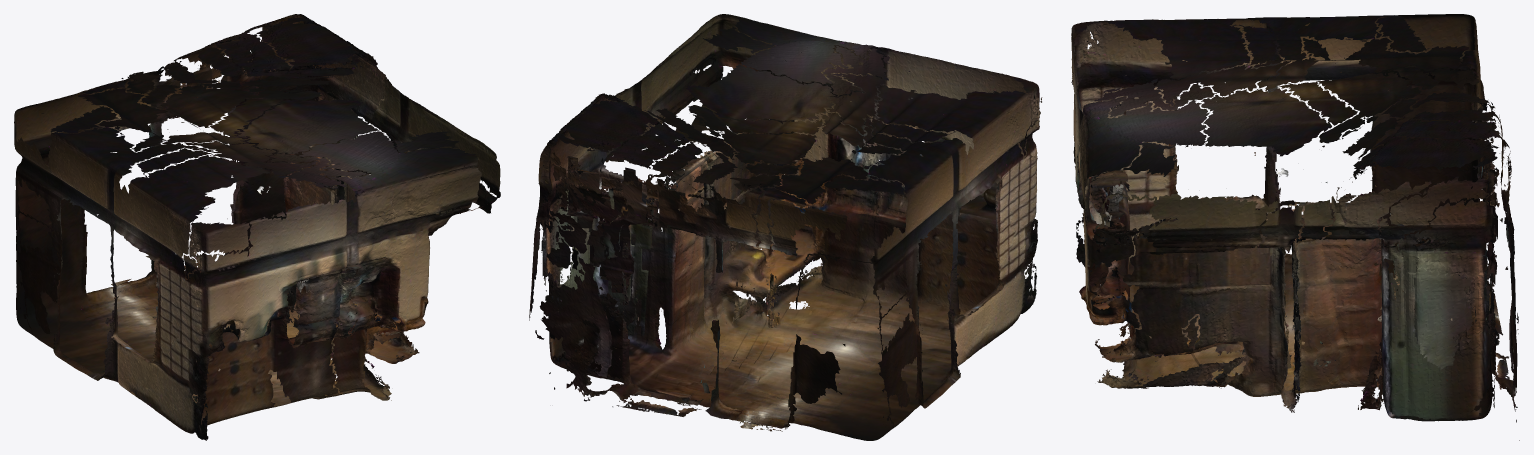
Rendered from buddhist_altar_room_in_an_old_house.fbx.
3 renders of one model, left to right at view 1: azimuth 30°, elevation 25°; view 2: azimuth 150°, elevation 25°; view 3: azimuth 270°, elevation 25°, orthographic. The views are drawn at different scales.
Visible parts, largest first — view 1: node_80006d5b_1c86_4430_97ff_953878b48ca3_mesh0, node_9a88270d_b078_435c_b285_fbeb6389e121_mesh0, node_992ce12a_48a3_4e6f_9386_aea04a5c1efe_mesh0, node_b9ad4a9d_72af_4e77_b0b3_31092304d35d_mesh0, node_e77a334d_af81_495f_95b5_0eed7565d0f1_mesh0, node_1a35d0e5_2291_4e8c_ab43_bf5250dd802f_mesh0, node_f6abef9a_6360_4bf5_aebf_4463a56253aa_mesh0, node_6f0a799f_8744_4117_a124_6cd3ba4630d4_mesh0, node_9f7009be_148e_4433_bb13_969b93e6328c_mesh0, node_0a7f9aeb_c3b8_42ab_929d_f312c8ff27d5_mesh0, node_ce72f187_6851_4801_9dac_0d0f6332ef7e_mesh0, node_0d8589cb_a370_4072_a839_b6b6df2be9bf_mesh0 (+7 smaller); view 2: node_b9ad4a9d_72af_4e77_b0b3_31092304d35d_mesh0, node_992ce12a_48a3_4e6f_9386_aea04a5c1efe_mesh0, node_1a35d0e5_2291_4e8c_ab43_bf5250dd802f_mesh0, node_9a88270d_b078_435c_b285_fbeb6389e121_mesh0, node_0a7f9aeb_c3b8_42ab_929d_f312c8ff27d5_mesh0, node_6367ecfc_4b02_4433_8737_3202f09f9bb7_mesh0, node_e77a334d_af81_495f_95b5_0eed7565d0f1_mesh0, node_6f0a799f_8744_4117_a124_6cd3ba4630d4_mesh0, node_9f7009be_148e_4433_bb13_969b93e6328c_mesh0, node_0823c485_43ac_4e40_a718_c0e7fdb8447b_mesh0, node_f6abef9a_6360_4bf5_aebf_4463a56253aa_mesh0, node_ce72f187_6851_4801_9dac_0d0f6332ef7e_mesh0 (+7 smaller); view 3: node_1a35d0e5_2291_4e8c_ab43_bf5250dd802f_mesh0, node_702fb339_9035_4e86_ab53_fd8b6367ff39_mesh0, node_b9ad4a9d_72af_4e77_b0b3_31092304d35d_mesh0, node_9f7009be_148e_4433_bb13_969b93e6328c_mesh0, node_ce72f187_6851_4801_9dac_0d0f6332ef7e_mesh0, node_0a7f9aeb_c3b8_42ab_929d_f312c8ff27d5_mesh0, node_0d8589cb_a370_4072_a839_b6b6df2be9bf_mesh0, node_9a88270d_b078_435c_b285_fbeb6389e121_mesh0, node_6367ecfc_4b02_4433_8737_3202f09f9bb7_mesh0, node_e77a334d_af81_495f_95b5_0eed7565d0f1_mesh0, node_992ce12a_48a3_4e6f_9386_aea04a5c1efe_mesh0, node_f6abef9a_6360_4bf5_aebf_4463a56253aa_mesh0 (+7 smaller).
Boxes of the visible parts, box(x1,y1,x2,y2) form: node_80006d5b_1c86_4430_97ff_953878b48ca3_mesh0: box(15, 179, 333, 402); node_9a88270d_b078_435c_b285_fbeb6389e121_mesh0: box(54, 88, 478, 395); node_992ce12a_48a3_4e6f_9386_aea04a5c1efe_mesh0: box(37, 45, 438, 420); node_b9ad4a9d_72af_4e77_b0b3_31092304d35d_mesh0: box(14, 98, 472, 410); node_e77a334d_af81_495f_95b5_0eed7565d0f1_mesh0: box(14, 104, 500, 369); node_1a35d0e5_2291_4e8c_ab43_bf5250dd802f_mesh0: box(50, 85, 379, 339); node_f6abef9a_6360_4bf5_aebf_4463a56253aa_mesh0: box(14, 112, 417, 407); node_6f0a799f_8744_4117_a124_6cd3ba4630d4_mesh0: box(14, 16, 495, 434); node_9f7009be_148e_4433_bb13_969b93e6328c_mesh0: box(131, 14, 400, 413); node_0a7f9aeb_c3b8_42ab_929d_f312c8ff27d5_mesh0: box(14, 21, 500, 416); node_ce72f187_6851_4801_9dac_0d0f6332ef7e_mesh0: box(129, 31, 499, 395); node_0d8589cb_a370_4072_a839_b6b6df2be9bf_mesh0: box(88, 62, 441, 440); node_b9ad4a9d_72af_4e77_b0b3_31092304d35d_mesh0: box(610, 45, 1040, 401); node_992ce12a_48a3_4e6f_9386_aea04a5c1efe_mesh0: box(676, 41, 1039, 417); node_1a35d0e5_2291_4e8c_ab43_bf5250dd802f_mesh0: box(686, 64, 1002, 403); node_9a88270d_b078_435c_b285_fbeb6389e121_mesh0: box(628, 16, 1031, 431); node_0a7f9aeb_c3b8_42ab_929d_f312c8ff27d5_mesh0: box(530, 25, 1039, 426); node_6367ecfc_4b02_4433_8737_3202f09f9bb7_mesh0: box(529, 14, 1027, 430); node_e77a334d_af81_495f_95b5_0eed7565d0f1_mesh0: box(666, 24, 997, 429); node_6f0a799f_8744_4117_a124_6cd3ba4630d4_mesh0: box(529, 18, 1042, 429); node_9f7009be_148e_4433_bb13_969b93e6328c_mesh0: box(531, 41, 1020, 401); node_0823c485_43ac_4e40_a718_c0e7fdb8447b_mesh0: box(552, 245, 1029, 440); node_f6abef9a_6360_4bf5_aebf_4463a56253aa_mesh0: box(744, 123, 1036, 418); node_ce72f187_6851_4801_9dac_0d0f6332ef7e_mesh0: box(561, 26, 967, 370); node_1a35d0e5_2291_4e8c_ab43_bf5250dd802f_mesh0: box(1120, 15, 1460, 338); node_702fb339_9035_4e86_ab53_fd8b6367ff39_mesh0: box(1194, 57, 1499, 419); node_b9ad4a9d_72af_4e77_b0b3_31092304d35d_mesh0: box(1071, 21, 1470, 398); node_9f7009be_148e_4433_bb13_969b93e6328c_mesh0: box(1075, 78, 1515, 409); node_ce72f187_6851_4801_9dac_0d0f6332ef7e_mesh0: box(1082, 119, 1501, 403); node_0a7f9aeb_c3b8_42ab_929d_f312c8ff27d5_mesh0: box(1071, 15, 1516, 420); node_0d8589cb_a370_4072_a839_b6b6df2be9bf_mesh0: box(1074, 74, 1494, 387); node_9a88270d_b078_435c_b285_fbeb6389e121_mesh0: box(1080, 18, 1507, 388); node_6367ecfc_4b02_4433_8737_3202f09f9bb7_mesh0: box(1087, 47, 1517, 380); node_e77a334d_af81_495f_95b5_0eed7565d0f1_mesh0: box(1074, 14, 1494, 351); node_992ce12a_48a3_4e6f_9386_aea04a5c1efe_mesh0: box(1071, 29, 1500, 331); node_f6abef9a_6360_4bf5_aebf_4463a56253aa_mesh0: box(1076, 36, 1478, 388).
Size of the model in its own units: 383 by 275 by 396.
1 material, 1 textured.
